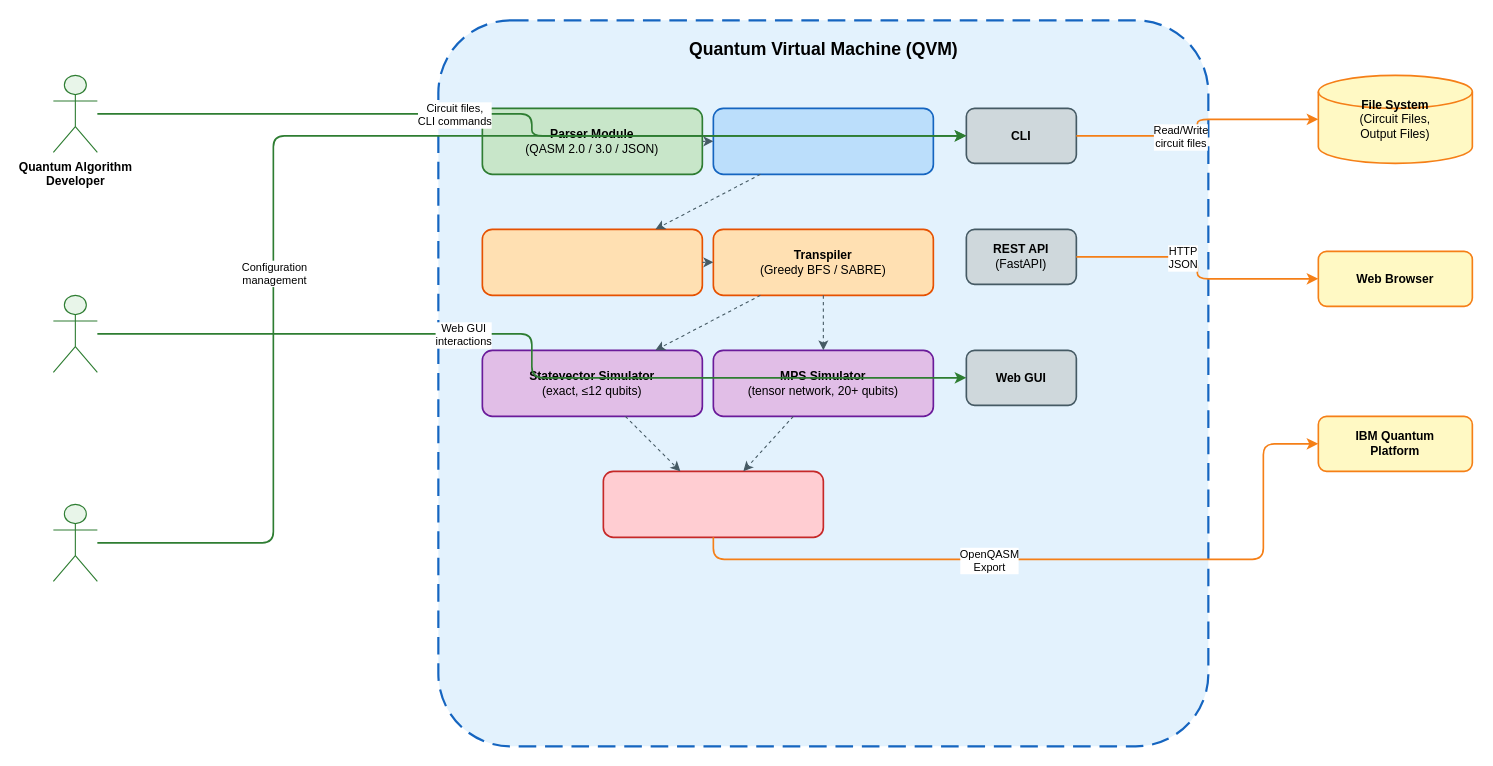
The diagram is 1493 pixels wide and 766 high, and some of its shapes have lost their labels. The centre of each missing label's shape, as x and y in pixels:
Decomposer (Gate Breakdown): point 592,262
Educational User: point 74,333
QuantumCircuit IR (Intermediate Representation): point 823,141
System Administrator: point 74,542
Visualizer (Matplotlib): point 713,504
